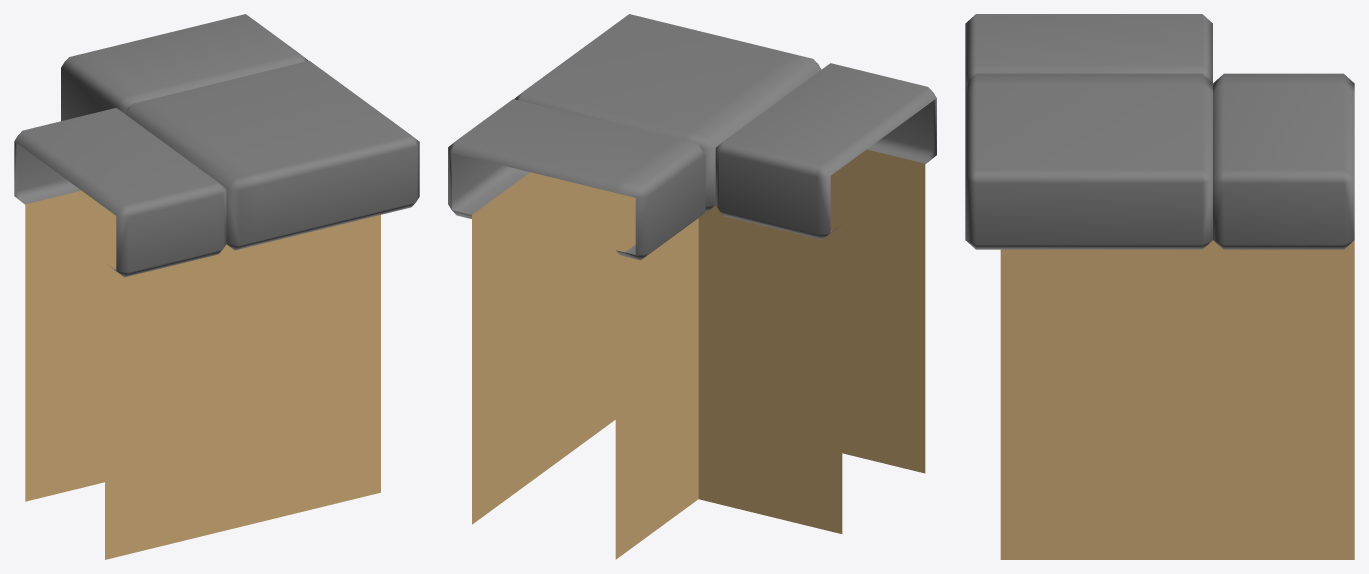
The model's file is SM_WallCorner_2_LOD0.fbx.
The picture shows the model from 3 angles, left to right: view 1: azimuth 30°, elevation 25°; view 2: azimuth 150°, elevation 25°; view 3: azimuth 270°, elevation 25°; orthographic projection. The views are drawn at different scales.
Parts seen in each view (by area): view 1: SM_WallCorner_2_LOD0; view 2: SM_WallCorner_2_LOD0; view 3: SM_WallCorner_2_LOD0.
Part boxes in pixels (x1,y1,x2,y2): SM_WallCorner_2_LOD0: [14, 14, 419, 559]; SM_WallCorner_2_LOD0: [448, 14, 936, 559]; SM_WallCorner_2_LOD0: [965, 14, 1354, 559].
Size of the model in its own units: 2.2 by 2.5 by 2.2.
